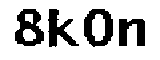0: (80, 1, 114, 49)
8: (10, 4, 45, 49)
k: (46, 1, 83, 52)
n: (117, 11, 149, 52)
